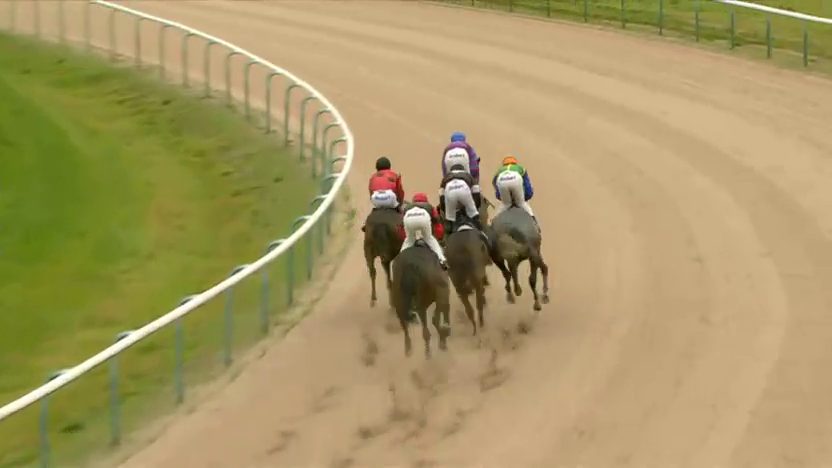jockey: (402, 192, 437, 275), (495, 155, 534, 228), (443, 166, 476, 238), (370, 158, 402, 219), (443, 132, 473, 191)
